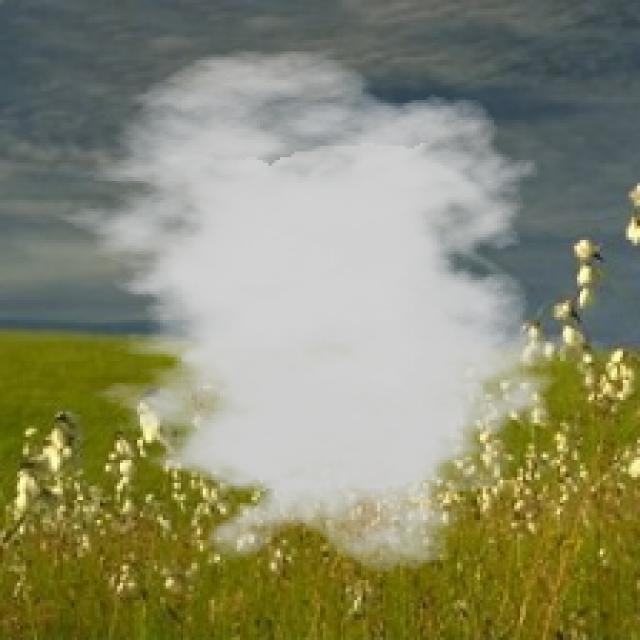smoke: (37, 49, 580, 574)
